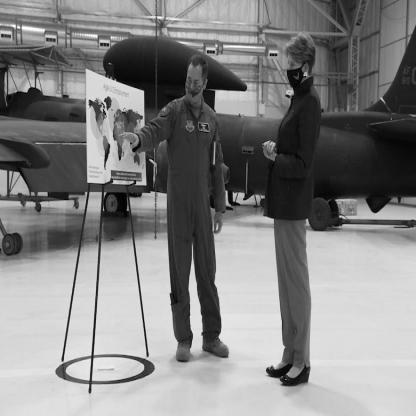U2: (2, 25, 416, 258)
